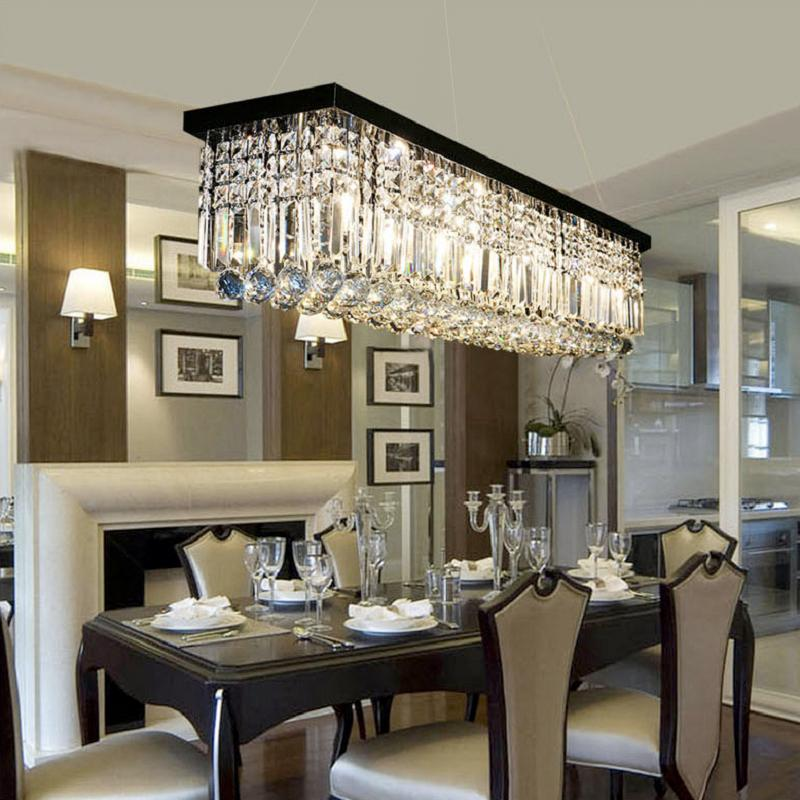chandelier: (177, 3, 696, 361)
